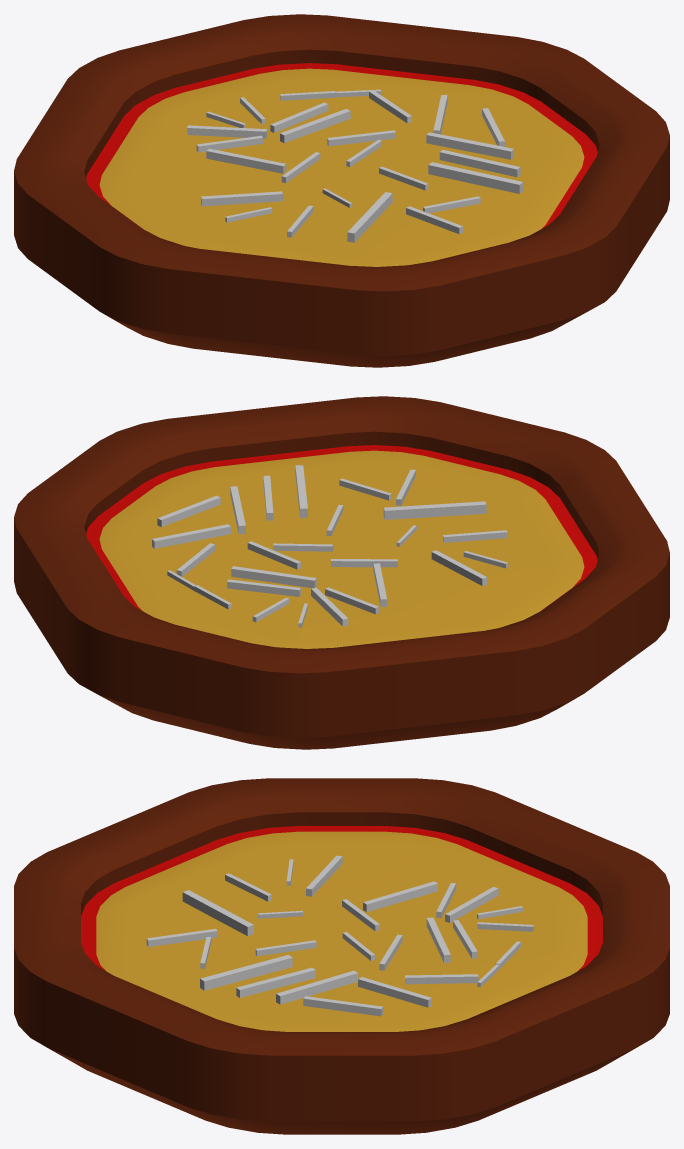
The model's file is Fancy Cheese Pizza.obj.
The picture shows the model from 3 angles, top to bottom: view 1: azimuth 30°, elevation 25°; view 2: azimuth 150°, elevation 25°; view 3: azimuth 270°, elevation 25°; orthographic projection. The views are drawn at different scales.
Visible parts, largest first — view 1: Fancy_Cheese_Pizza_Cube.012; view 2: Fancy_Cheese_Pizza_Cube.012; view 3: Fancy_Cheese_Pizza_Cube.012.
Part boxes in pixels (x1=…): Fancy_Cheese_Pizza_Cube.012: x1=14, y1=14, x2=669, y2=367; Fancy_Cheese_Pizza_Cube.012: x1=14, y1=396, x2=669, y2=749; Fancy_Cheese_Pizza_Cube.012: x1=14, y1=778, x2=669, y2=1134.
Size of the model in its own units: 2 by 0.4132 by 2.
